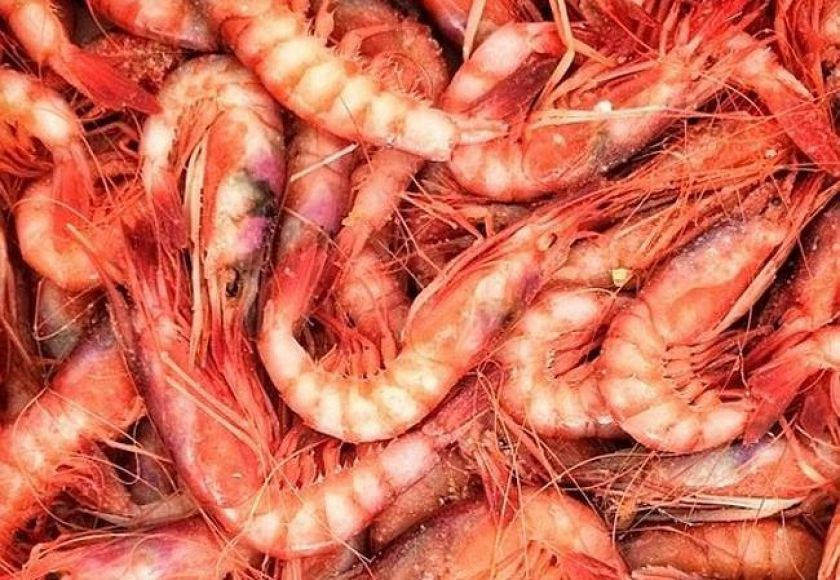Red Prawn: (263, 210, 575, 449), (441, 20, 742, 195), (602, 198, 806, 449), (140, 53, 281, 351)
